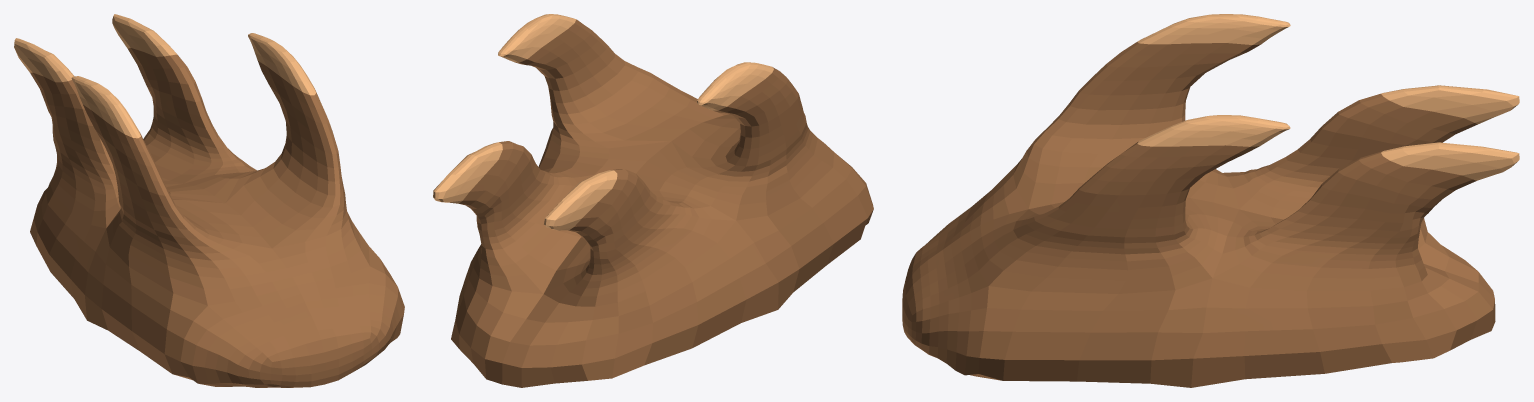
Rendered from Quad Fin.fbx.
The picture shows the model from 3 angles, left to right: view 1: azimuth 30°, elevation 25°; view 2: azimuth 150°, elevation 25°; view 3: azimuth 270°, elevation 25°; orthographic projection. The views are drawn at different scales.
Parts seen in each view (by area): view 1: Quad Fin - VoidBeat; view 2: Quad Fin - VoidBeat; view 3: Quad Fin - VoidBeat.
Boxes of the visible parts, x1,y1,x2,y2 form: Quad Fin - VoidBeat: (14,14,404,387); Quad Fin - VoidBeat: (433,14,873,387); Quad Fin - VoidBeat: (902,14,1519,387).
Bounding box in the file's own units: 38.62 × 34.22 × 73.34.
